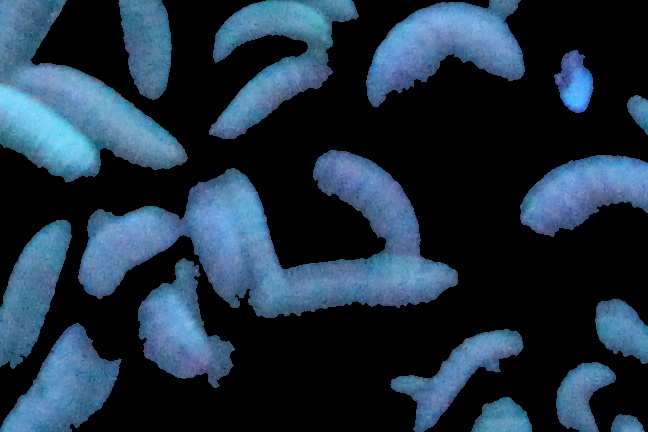larvae: (354, 1, 532, 116), (244, 258, 464, 341), (29, 58, 189, 170), (299, 141, 428, 262), (204, 44, 336, 154), (1, 58, 104, 194), (508, 141, 648, 239), (4, 322, 127, 432), (1, 210, 81, 378), (402, 322, 520, 432), (80, 197, 181, 309), (202, 1, 340, 65), (102, 1, 180, 111), (185, 179, 248, 306), (219, 165, 288, 272), (549, 351, 616, 432)
